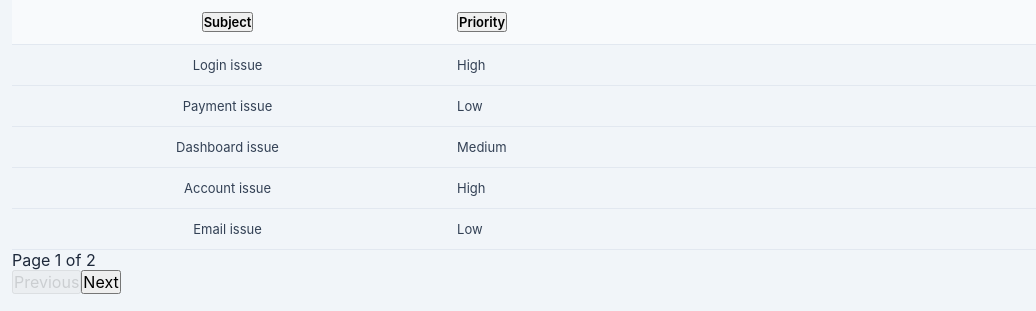
Scenario: DataTable Component › moves to the next page when Next is clicked
Click the button "Next" at (101, 282), box [81, 270, 121, 294]
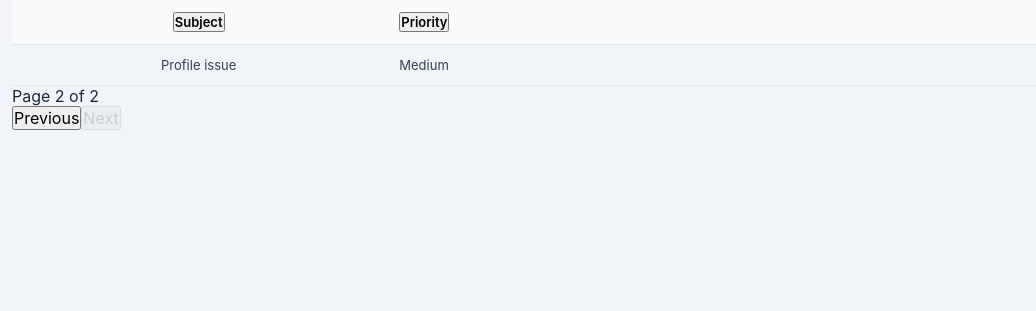
Now the text "Page 2 of 2" is shown, box [12, 86, 99, 106]
Now the text "Profile issue" is shown, box [12, 45, 385, 86]
